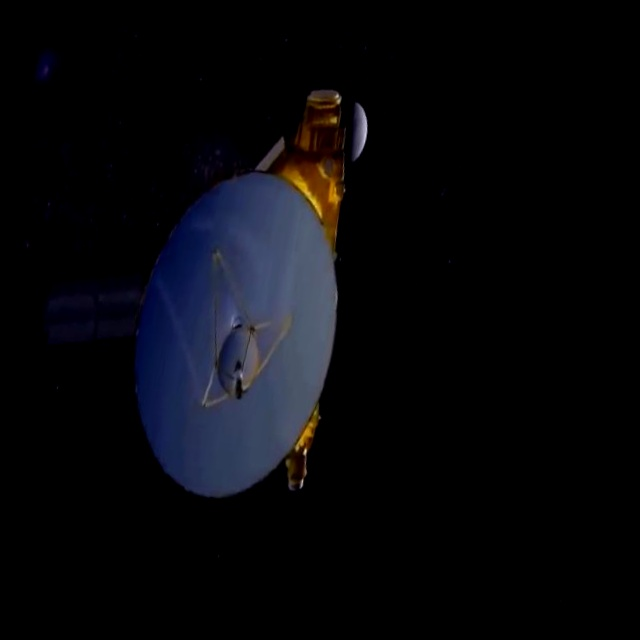satellite: (8, 30, 396, 535)
